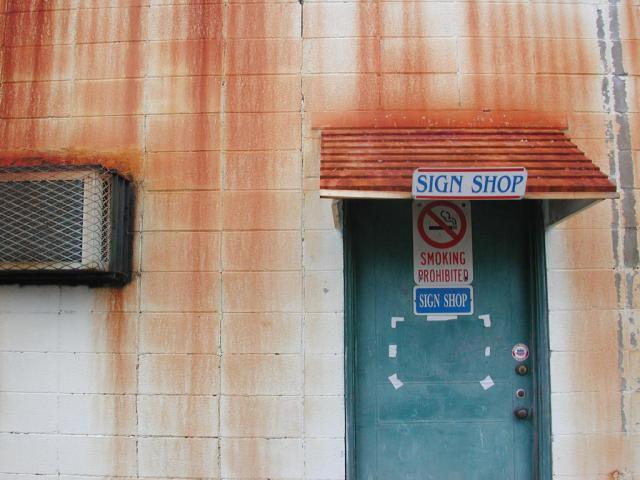Door-handle: (514, 405, 528, 421)
